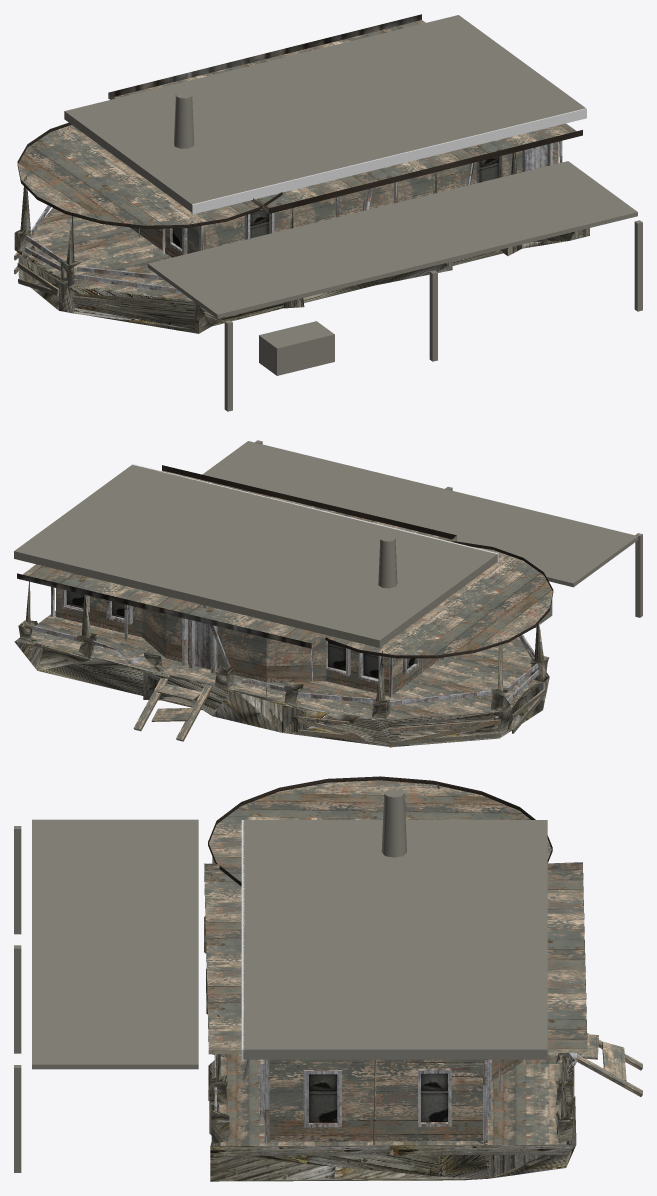
3 views of the same model, one above another, from view 1: azimuth 30°, elevation 25°; view 2: azimuth 150°, elevation 25°; view 3: azimuth 270°, elevation 25° (orthographic). The views are drawn at different scales.
Visible parts, largest first — view 1: dweller_building_workshop; view 2: dweller_building_workshop; view 3: dweller_building_workshop.
Boxes of the visible parts, x1,y1,x2,y2 form: dweller_building_workshop: (14,14,642,411); dweller_building_workshop: (14,440,642,747); dweller_building_workshop: (14,776,642,1181).
Size of the model in its own units: 18.69 by 6.25 by 17.36.
Materials: 6 (4 with a texture image).
